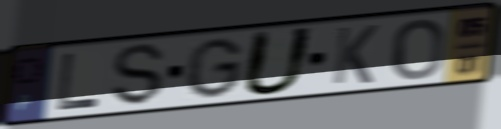G: (182, 36, 245, 101)
K: (330, 23, 381, 87)
L: (54, 50, 101, 112)
O: (390, 17, 446, 83)
S: (111, 42, 167, 108)
U: (239, 25, 318, 98)
